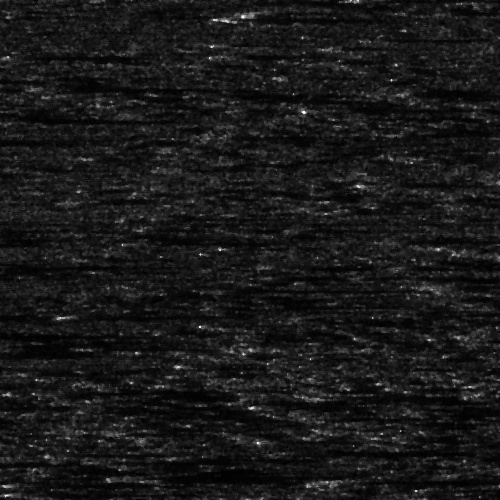object: (116, 471, 179, 480), (307, 475, 380, 482), (476, 5, 500, 20), (213, 11, 224, 20)
shadow: (148, 471, 324, 480), (0, 328, 94, 341), (344, 475, 500, 482), (219, 11, 338, 20), (0, 134, 86, 143), (0, 459, 74, 464)
